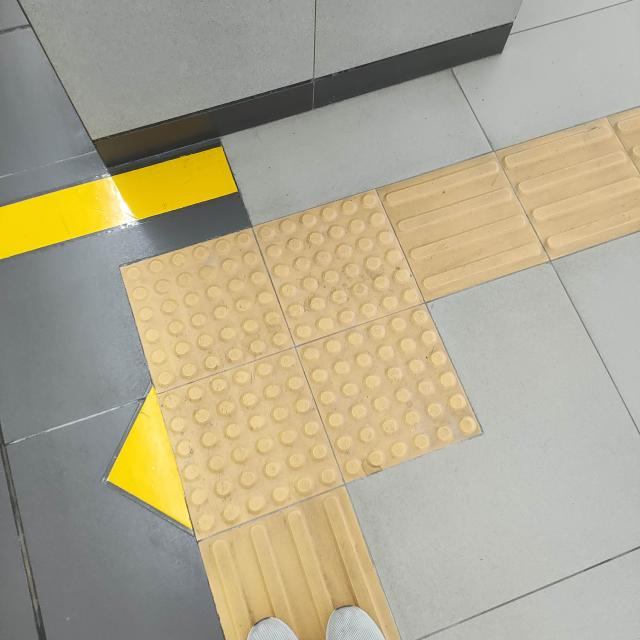kanan: (53, 164, 640, 546)
